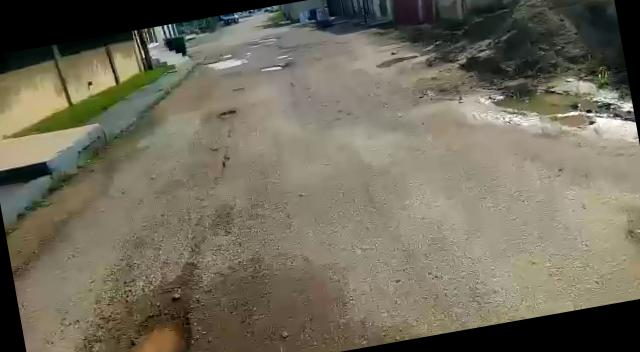pothole: (102, 308, 200, 352), (199, 54, 249, 72), (257, 62, 287, 74), (215, 108, 238, 120)
